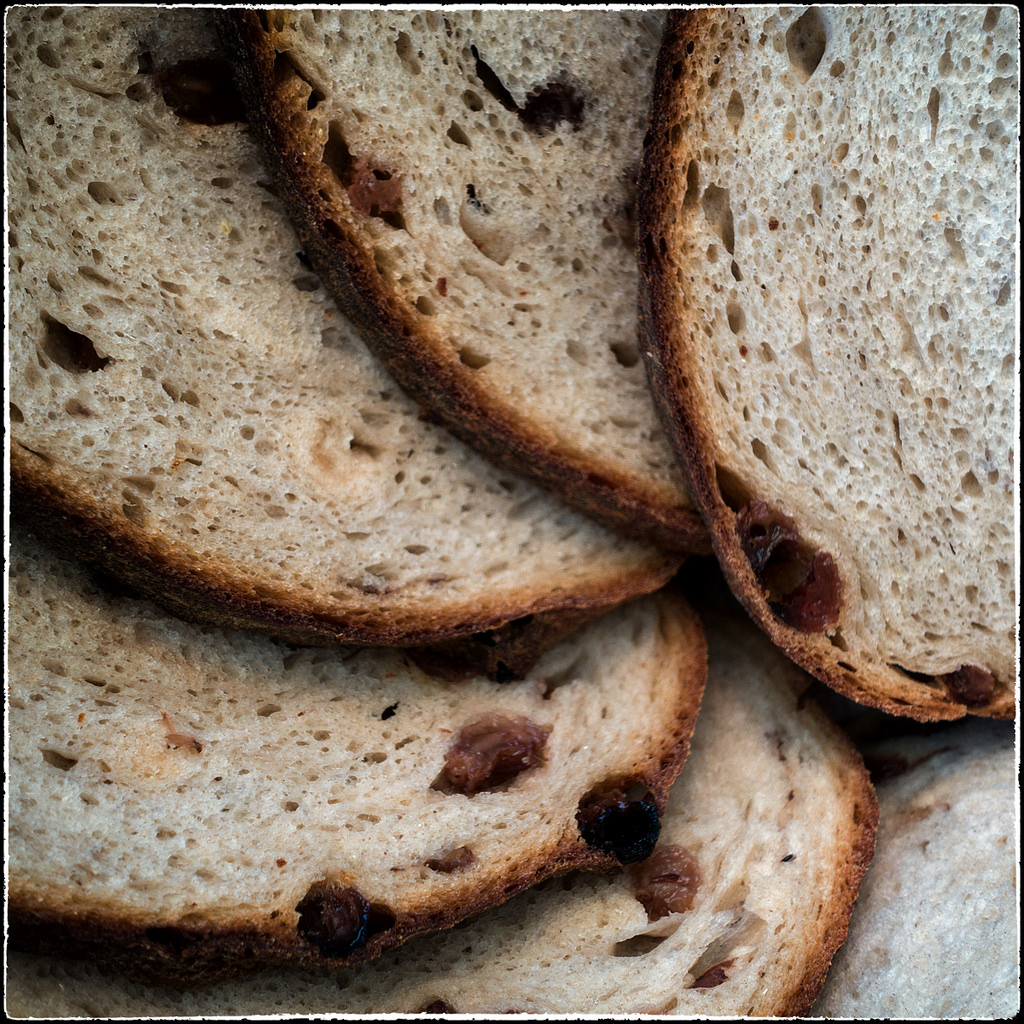slice of bread: (34, 17, 991, 958)
